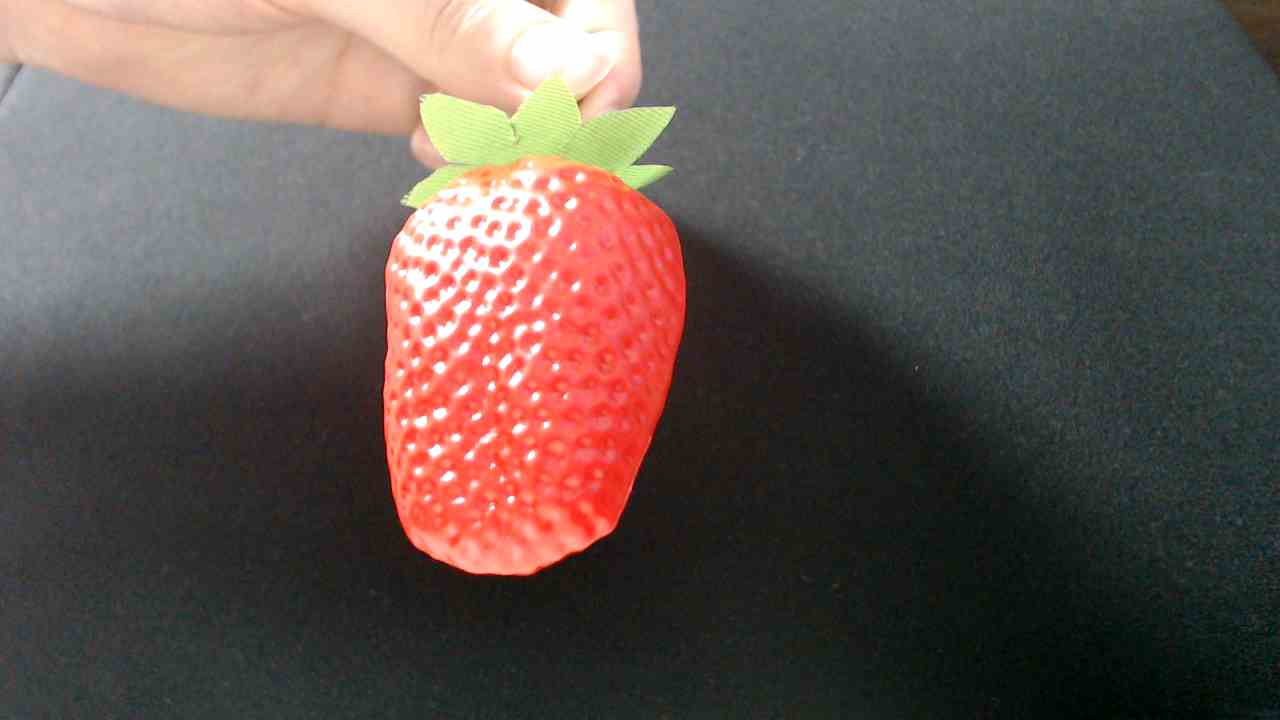strawberry: (369, 141, 699, 588)
